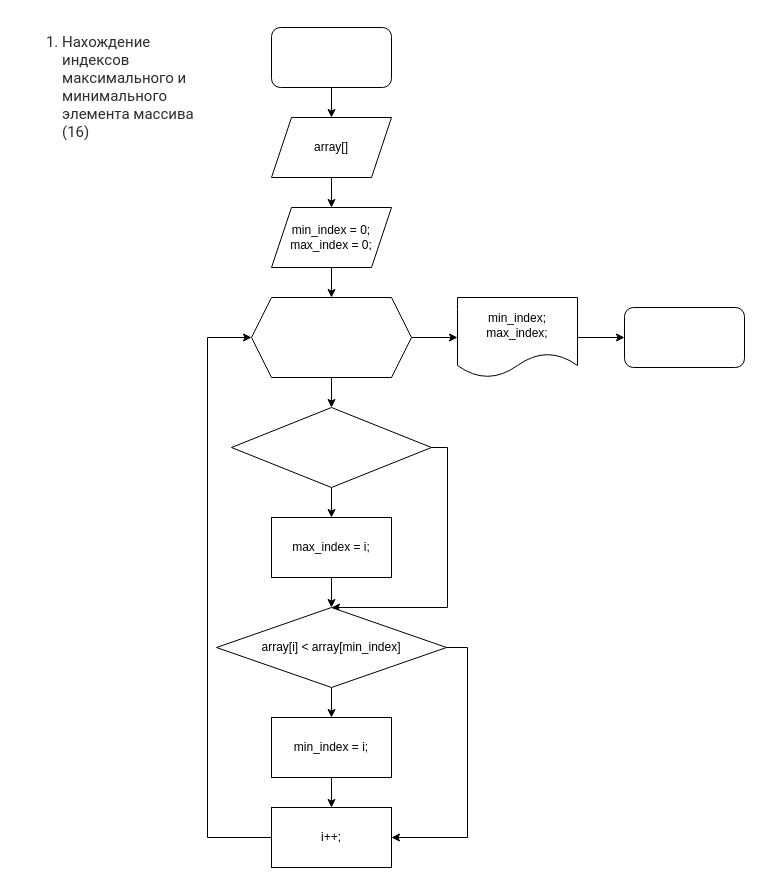
Image size: 762x885. Some labels were removed from this diagram. Each missing label, with the centre of its shape:
"array[i] > array[max_index]" goes at pixel 331 447.
"i = 1, i < array.length, i++" goes at pixel 331 337.
"Конец" goes at pixel 684 337.
"Начало" goes at pixel 331 57.
